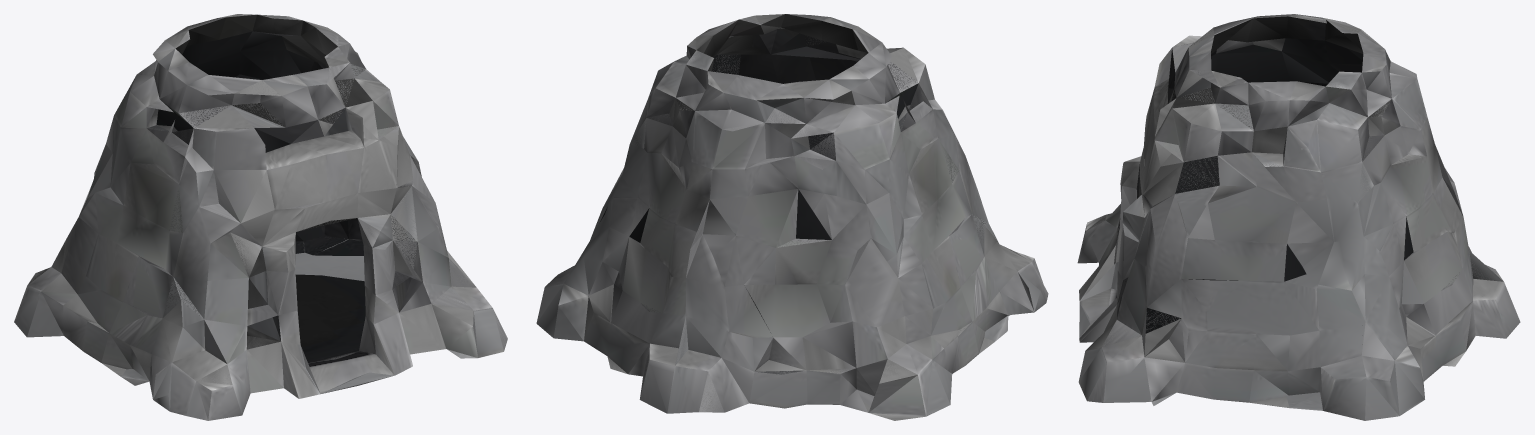
The model's file is shared_flak_tower_large_option_lod2.glb.
The picture shows the model from 3 angles, left to right: view 1: azimuth 30°, elevation 25°; view 2: azimuth 150°, elevation 25°; view 3: azimuth 270°, elevation 25°; orthographic projection. The views are drawn at different scales.
Visible parts, largest first — view 1: mesh_node; view 2: mesh_node; view 3: mesh_node.
Boxes of the visible parts, <box> form: mesh_node: <box>14,14,507,420</box>; mesh_node: <box>536,14,1048,420</box>; mesh_node: <box>1077,14,1520,420</box>.
Size of the model in its own units: 7.92 by 5.32 by 7.7.
1 material, 1 textured.
